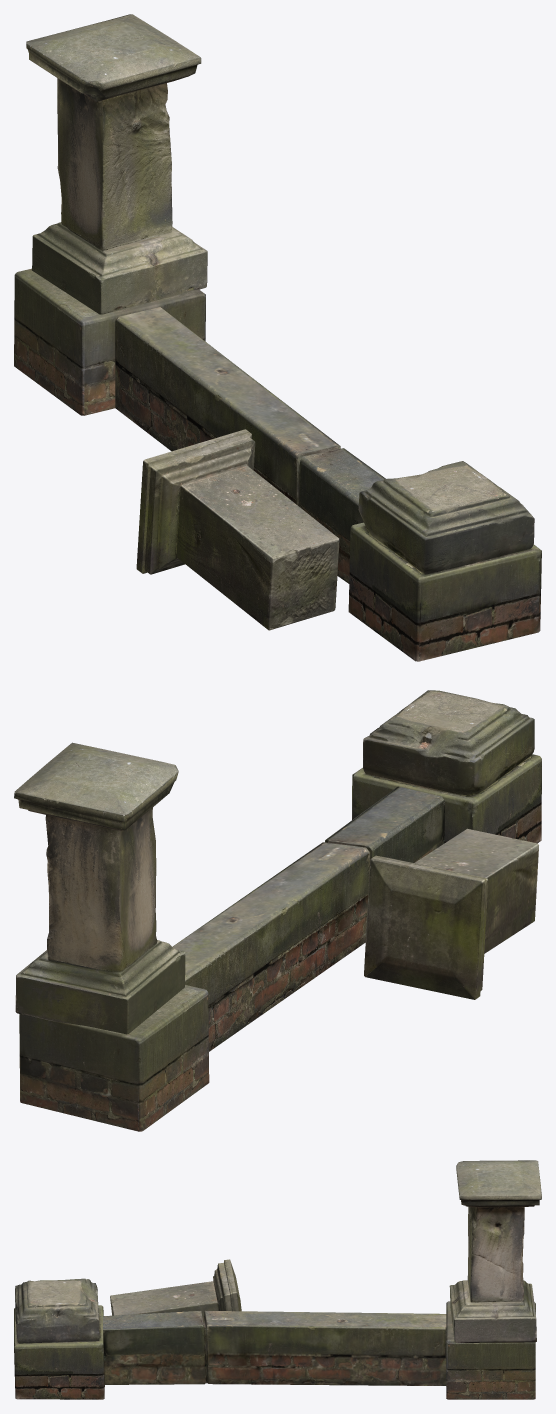
Rendered from sm_PlatformColumns_01_01.fbx.
The picture shows the model from 3 angles, top to bottom: view 1: azimuth 30°, elevation 25°; view 2: azimuth 150°, elevation 25°; view 3: azimuth 270°, elevation 25°; orthographic projection. The views are drawn at different scales.
Visible parts, largest first — view 1: sm_PlatformColumns_01_01_LOD0; view 2: sm_PlatformColumns_01_01_LOD0; view 3: sm_PlatformColumns_01_01_LOD0.
Part boxes in pixels (<box>): sm_PlatformColumns_01_01_LOD0: <box>14,14,541,661</box>; sm_PlatformColumns_01_01_LOD0: <box>14,690,541,1131</box>; sm_PlatformColumns_01_01_LOD0: <box>14,1160,541,1399</box>.
Size of the model in its own units: 96.98 by 288 by 130.
